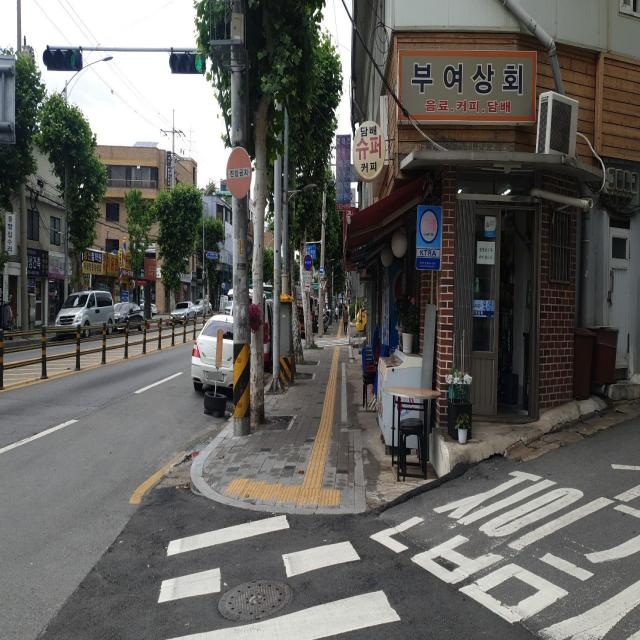횡단보도: (156, 510, 403, 639)
